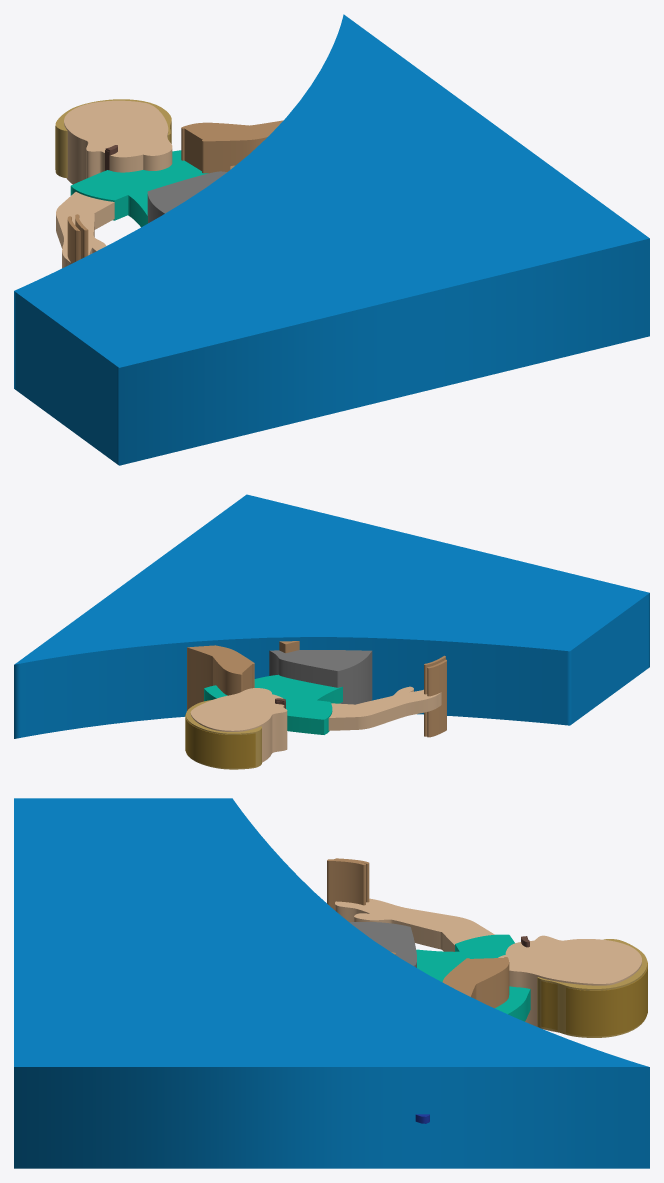
The model's file is emoji_u1f3c4_1f3fc_200d_2642.glb.
3 views of the same model, one above another, from view 1: azimuth 30°, elevation 25°; view 2: azimuth 150°, elevation 25°; view 3: azimuth 270°, elevation 25° (orthographic). The views are drawn at different scales.
Visible parts, largest first — view 1: emoji_u1f3c4_1f3fc_200d_2642; view 2: emoji_u1f3c4_1f3fc_200d_2642; view 3: emoji_u1f3c4_1f3fc_200d_2642.
Boxes of the visible parts, <box> form: emoji_u1f3c4_1f3fc_200d_2642: <box>14,14,649,465</box>; emoji_u1f3c4_1f3fc_200d_2642: <box>14,494,649,769</box>; emoji_u1f3c4_1f3fc_200d_2642: <box>14,798,649,1168</box>.
Size of the model in its own units: 0.0332 by 0.0058 by 0.0329.
